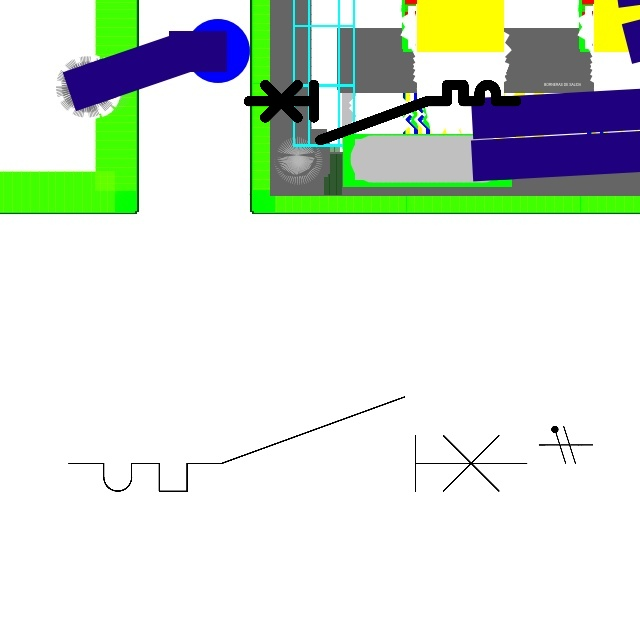interruptor_termomagnetico: (57, 385, 538, 503), (242, 78, 523, 146)
